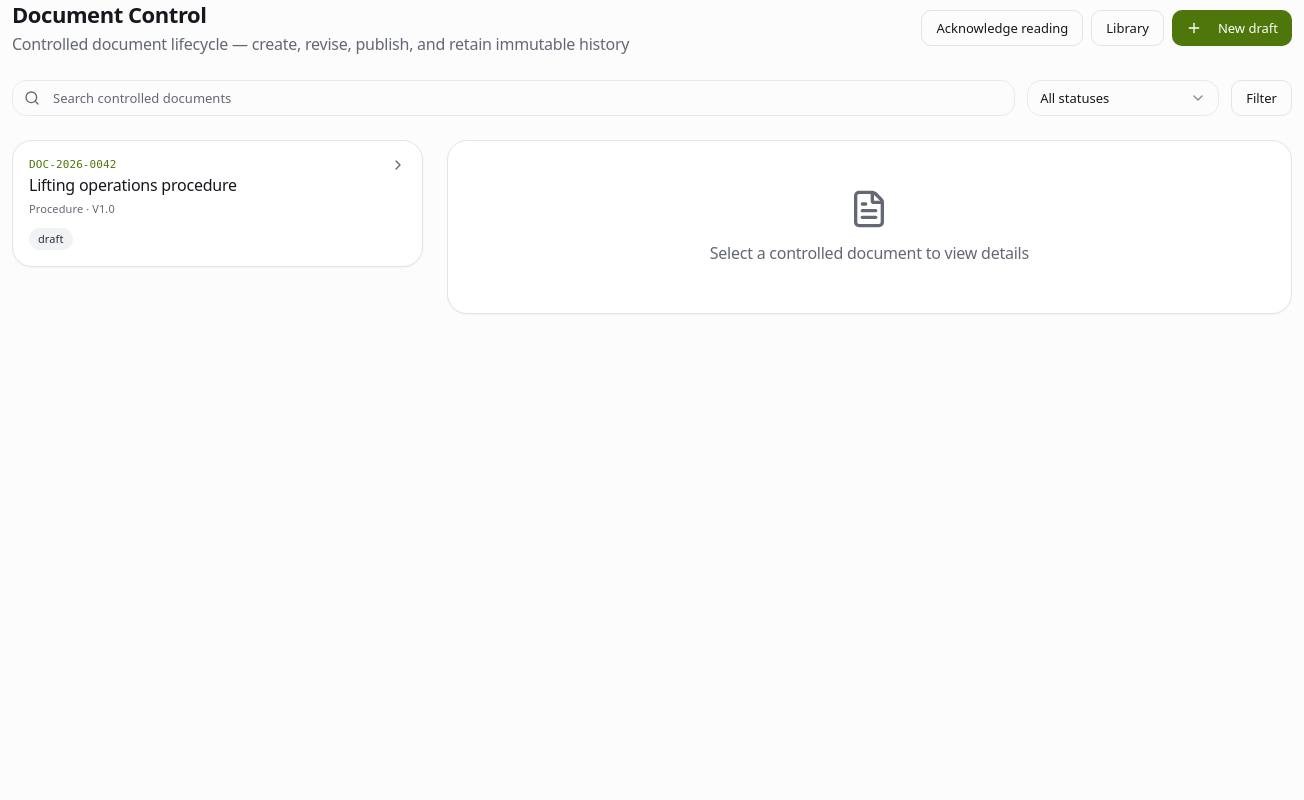
Scenario: Document Control distribution list › still lists the copies that were actually read
What coordinates should you click on to do the following:
click the text "Lifting operations procedure"
I would click on:
 (133, 185)
Its box is [29,173,237,197].
(page scrolled)
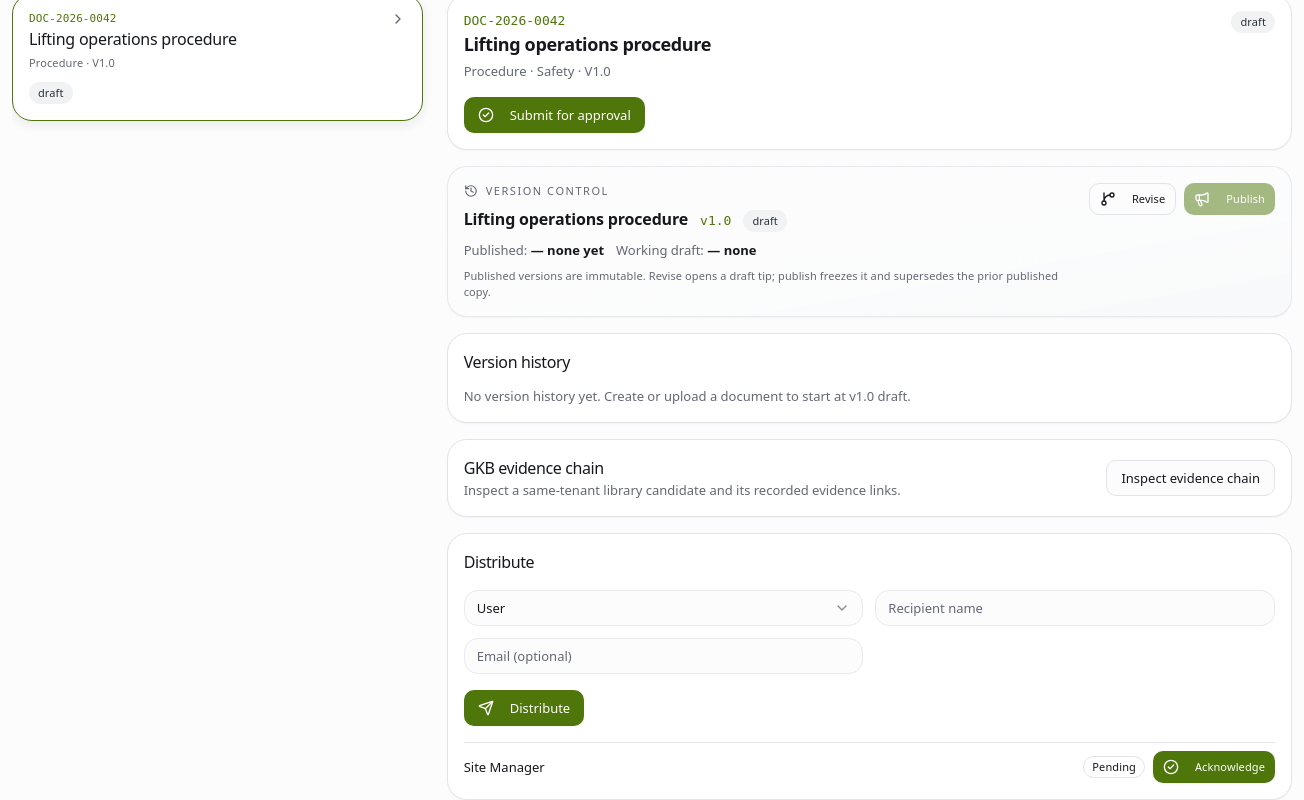
Result: the element with test id "document-control-distribution-7" is shown at [464,751,1275,783]
